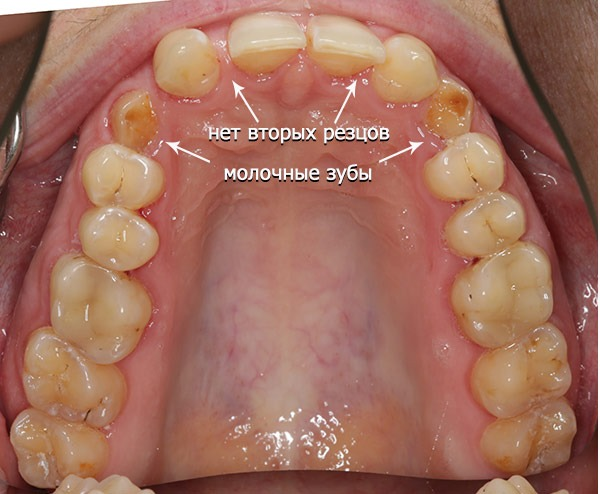UL1BC_decay: (428, 134, 501, 195)
UL1M_decay: (453, 252, 551, 346)
UL2BC_decay: (450, 196, 523, 256)
UL2M_decay: (478, 333, 567, 414)
UL3M_decay: (486, 411, 570, 472)
ULCI_healthy: (311, 16, 383, 72)
ULC_decay: (427, 79, 471, 137)
ULLI_healthy: (381, 35, 435, 99)
UR1BC_decay: (83, 144, 161, 208)
UR1M_healthy: (50, 255, 147, 363)
UR2BC_healthy: (82, 212, 158, 270)
UR2M_decay: (25, 332, 129, 424)
UR3M_decay: (13, 408, 106, 487)
URCI_healthy: (228, 13, 305, 71)
URC_decay: (110, 89, 160, 147)
URLI_healthy: (154, 27, 217, 97)
